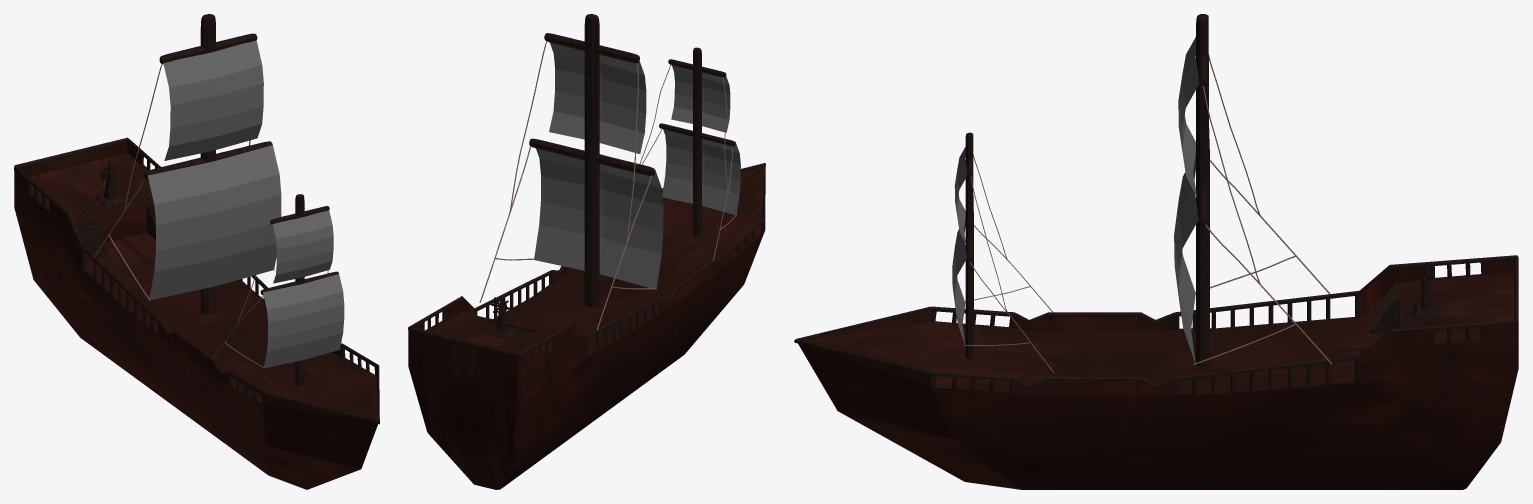
The model's file is Galeon.fbx.
The picture shows the model from 3 angles, left to right: view 1: azimuth 30°, elevation 25°; view 2: azimuth 150°, elevation 25°; view 3: azimuth 270°, elevation 25°; orthographic projection. The views are drawn at different scales.
Visible parts, largest first — view 1: Wood2, Sail.001, Sail.002, Sail.003, Cube, Sail.004, Mast.001, Stairs, Mast.002, Wheel, Rope.001; view 2: Wood2, Sail.001, Sail.002, Mast.001, Sail.003, Cube, Sail.004, Mast.002, Rope.001, Wheel, Rope.002; view 3: Wood2, Cube, Mast.001, Sail.001, Mast.002, Rope.001, Sail.002, Stairs, Sail.003, Rope.002.
Part boxes in pixels (box(x1,y1,x2,y2)): Wood2: box(14, 142, 378, 489); Sail.001: box(148, 145, 281, 300); Sail.002: box(163, 40, 263, 160); Sail.003: box(263, 274, 344, 368); Cube: box(14, 137, 379, 424); Sail.004: box(272, 210, 333, 283); Mast.001: box(144, 14, 272, 314); Stairs: box(74, 203, 155, 260); Mast.002: box(260, 194, 338, 386); Wheel: box(94, 162, 124, 207); Rope.001: box(93, 64, 274, 300); Wood2: box(408, 165, 765, 489); Sail.001: box(534, 148, 663, 289); Sail.002: box(549, 42, 646, 153); Mast.001: box(529, 14, 654, 307); Sail.003: box(662, 129, 740, 214); Cube: box(408, 163, 765, 359); Sail.004: box(671, 65, 730, 132); Mast.002: box(659, 47, 735, 235); Rope.001: box(479, 41, 656, 329); Wheel: box(486, 296, 516, 338); Rope.002: box(639, 64, 736, 260); Wood2: box(798, 260, 1518, 489); Cube: box(794, 255, 1518, 395); Mast.001: box(1196, 14, 1209, 366); Sail.001: box(1174, 154, 1198, 363); Mast.002: box(965, 132, 973, 358); Rope.001: box(1193, 54, 1331, 364); Sail.002: box(1178, 37, 1199, 196); Stairs: box(1370, 283, 1398, 333); Sail.003: box(952, 217, 966, 344); Rope.002: box(964, 154, 1054, 372).
Size of the model in its own units: 900 by 2709 by 3805.
